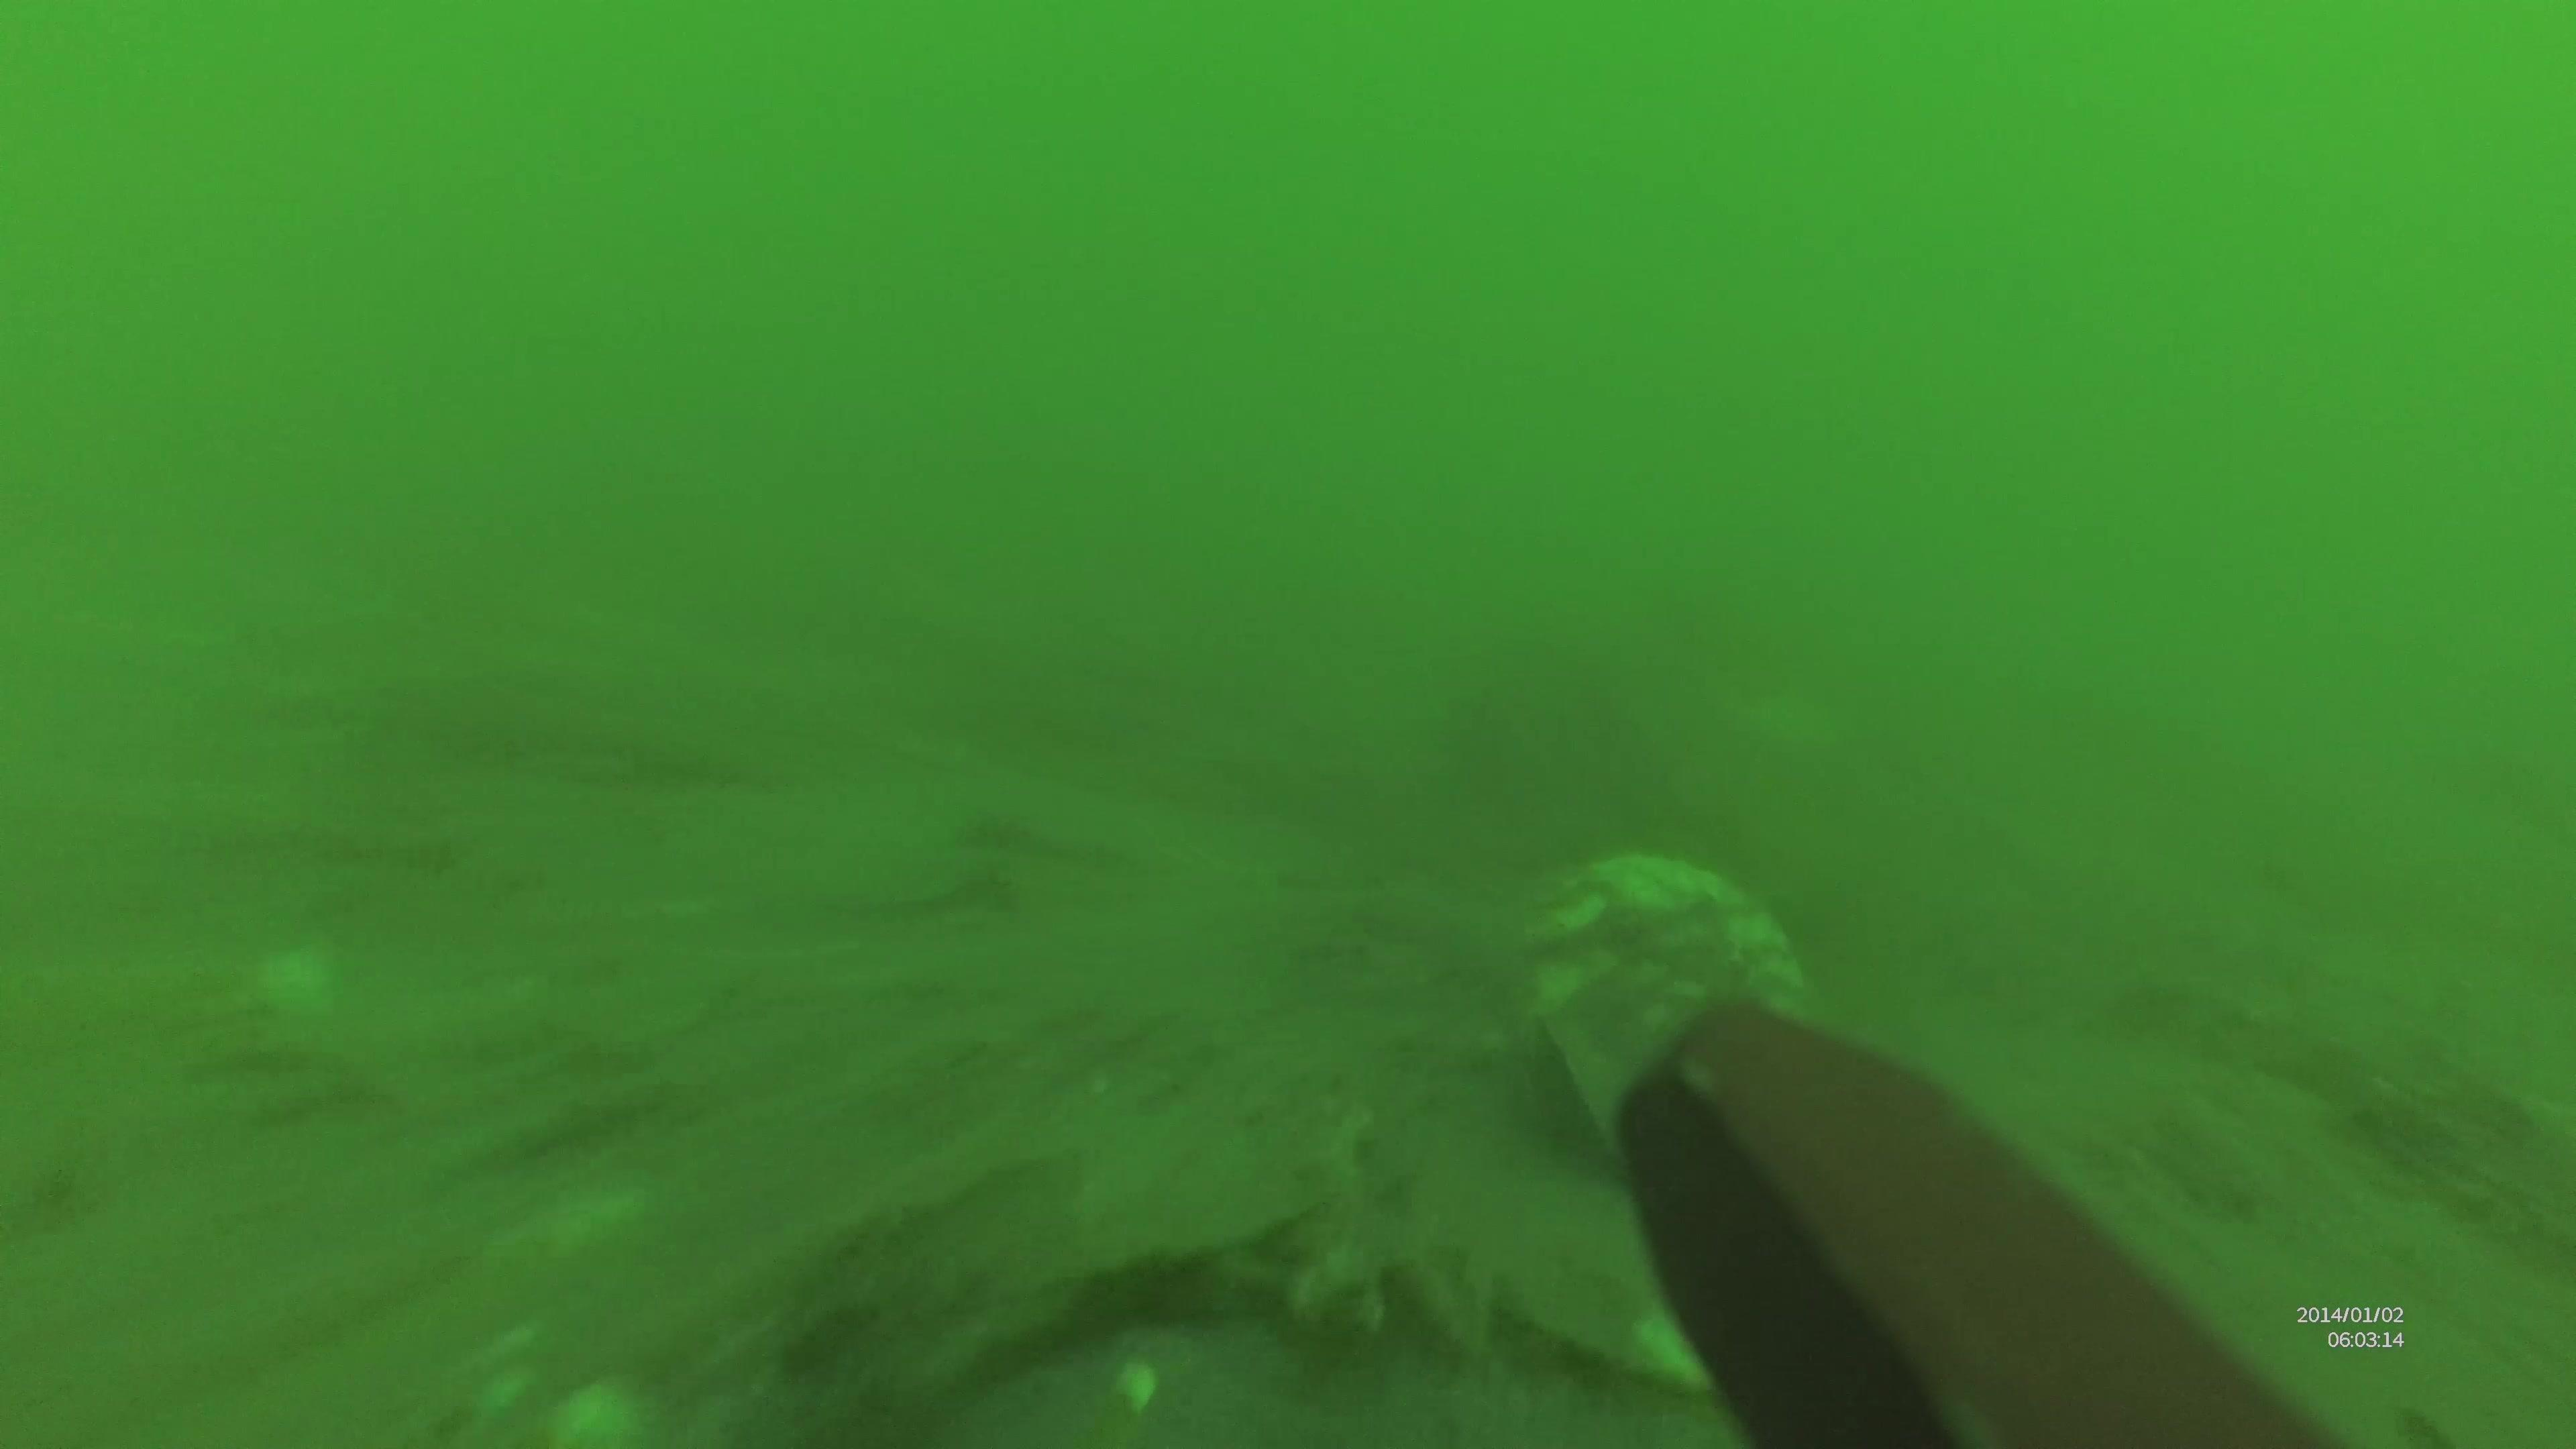scallop: (1522, 853, 1806, 1053)
